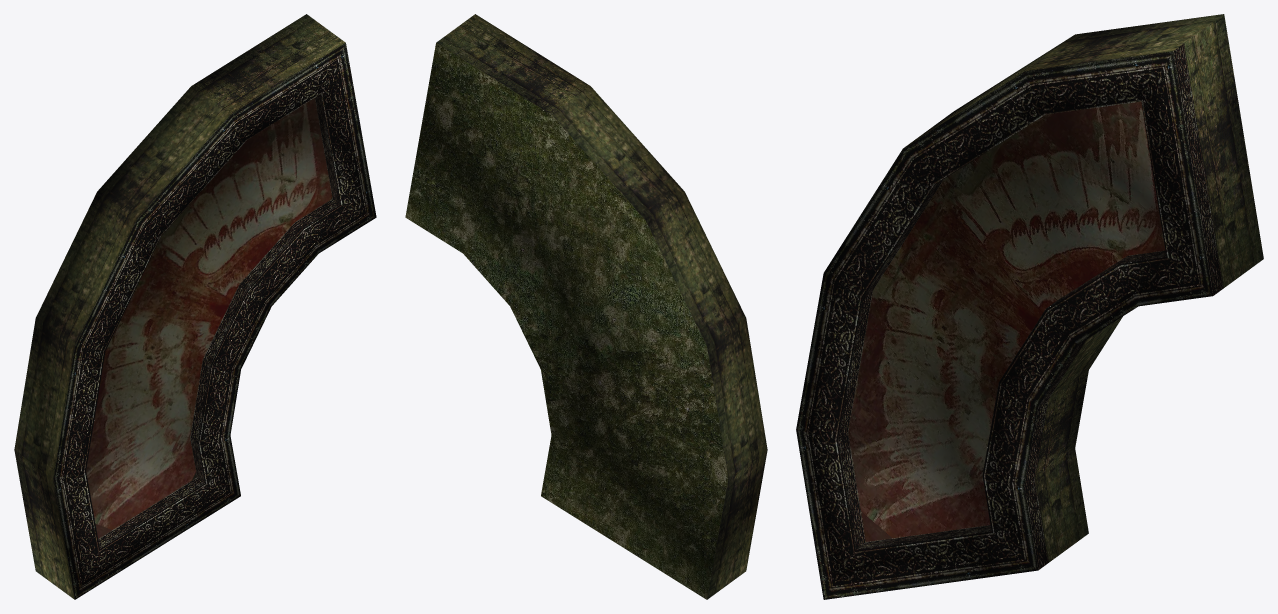
Rendered from EVT_ADDON_NW_TROLLPORTAL_PORTAL_07.glb.
3 renders of one model, left to right at view 1: azimuth 30°, elevation 25°; view 2: azimuth 150°, elevation 25°; view 3: azimuth 330°, elevation 25°, orthographic. The views are drawn at different scales.
Parts seen in each view (by area): view 1: Mesh; view 2: Mesh; view 3: Mesh.
Part boxes in pixels (bbox=[...]): Mesh: bbox=[14, 14, 376, 599]; Mesh: bbox=[405, 14, 767, 599]; Mesh: bbox=[796, 14, 1263, 599].
Size of the model in its own units: 2.35 by 3.42 by 0.4951.
4 materials, 4 textured.
